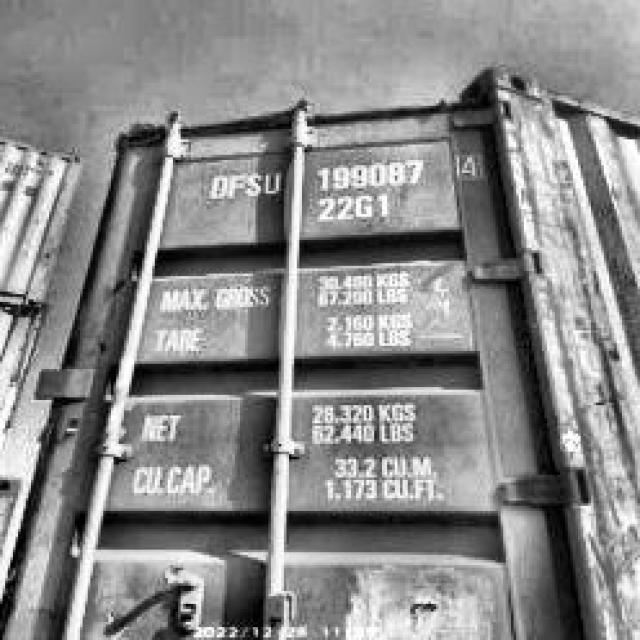ISO: (317, 192, 404, 222)
container_number: (211, 150, 484, 200)
